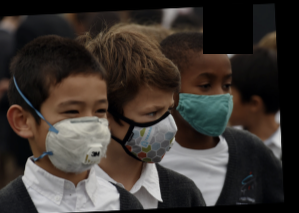with_mask: (35, 97, 112, 174), (117, 101, 178, 165), (176, 71, 235, 137)
